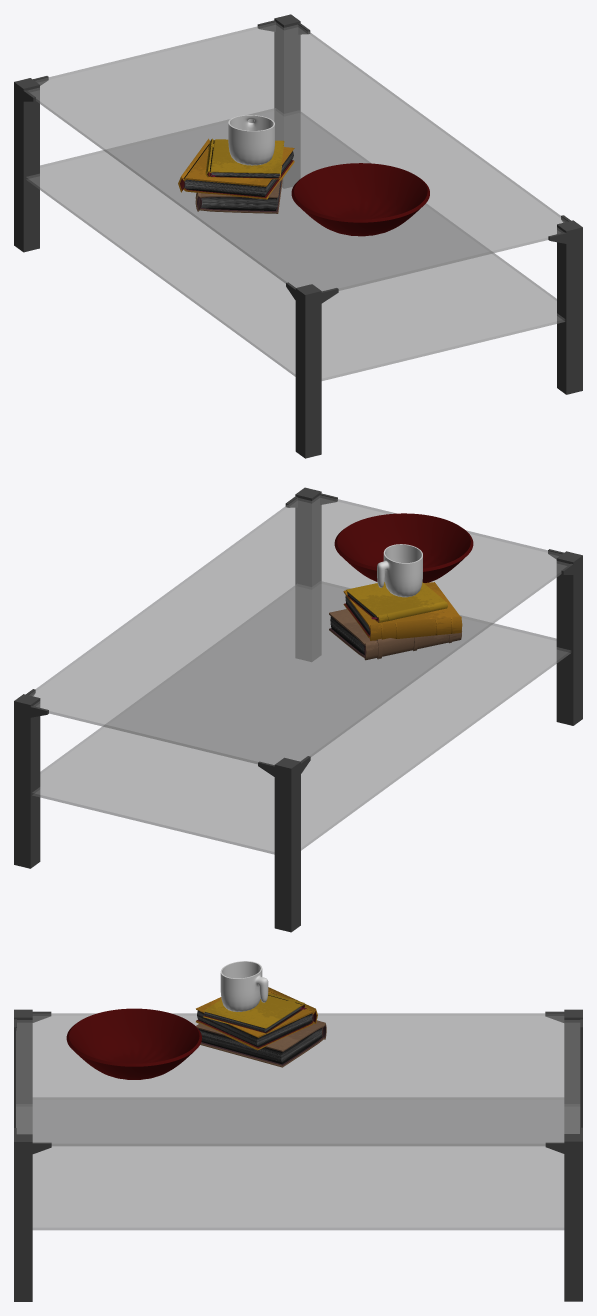
The model's file is GlassCoffeeTable01.fbx.
3 renders of one model, top to bottom at view 1: azimuth 30°, elevation 25°; view 2: azimuth 150°, elevation 25°; view 3: azimuth 270°, elevation 25°, orthographic. The views are drawn at different scales.
Parts seen in each view (by area): view 1: pCube1, pCube2, pCylinder1, pCube3, pCube6, pCube4, pCube5, pCylinder2, pCube15, pCube13, pages11, pages13 (+1 smaller); view 2: pCube2, pCube1, pCylinder1, pCube4, pCube5, pCube3, pCube6, pCube15, pCube13, pCylinder2, pCube71; view 3: pCube2, pCube1, pCylinder1, pCube6, pCube5, pCube4, pCube3, pCylinder2, pCube13, pages13, pCube71, pCube15 (+2 smaller).
Boxes of the visible parts, x1,y1,x2,y2 form: pCube1: (27,22,567,291); pCube2: (26,108,564,380); pCylinder1: (291,163,429,236); pCube3: (286,282,338,458); pCube6: (548,215,582,394); pCube4: (14,76,48,252); pCube5: (257,14,310,187); pCylinder2: (228,115,274,165); pCube15: (178,138,294,199); pCube13: (205,138,284,179); pages11: (183,144,293,196); pages13: (201,181,280,210); pCube2: (32,581,570,854); pCube1: (29,495,569,764); pCylinder1: (334,513,473,582); pCube4: (258,756,310,932); pCube5: (14,689,48,868); pCube3: (548,549,582,725); pCube6: (285,487,337,661); pCube15: (343,582,462,640); pCube13: (346,582,447,622); pCylinder2: (377,544,422,597); pCube71: (329,609,461,660); pCube2: (16,1097,579,1230); pCube1: (16,1013,580,1146); pCylinder1: (66,1008,201,1079); pCube6: (14,1128,51,1301); pCube5: (545,1127,582,1301); pCube4: (545,1009,582,1133); pCube3: (14,1009,51,1133); pCylinder2: (220,961,268,1011); pCube13: (203,993,305,1034); pages13: (198,1028,322,1064); pCube71: (196,1020,326,1067); pCube15: (196,987,317,1050).
Size of the model in its own units: 63.39 by 50.59 by 114.
